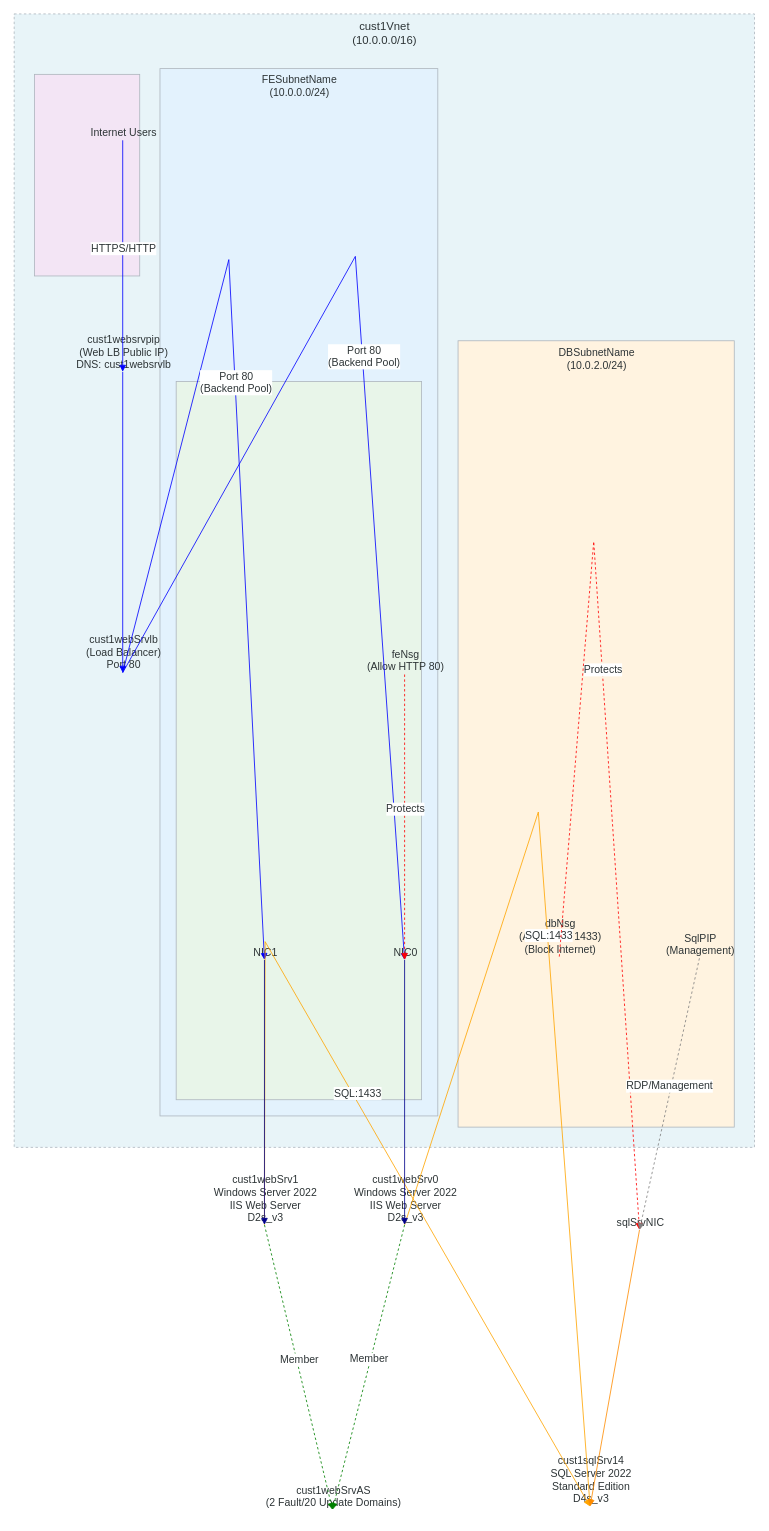
This 769x1531 diagram has some shape labels left out. The shapes that lost their labels are listed below. From the top down, each one's centre as x and y in pixels, then its label:
point 87,175: Load Balancer
point 298,740: Availability Set
